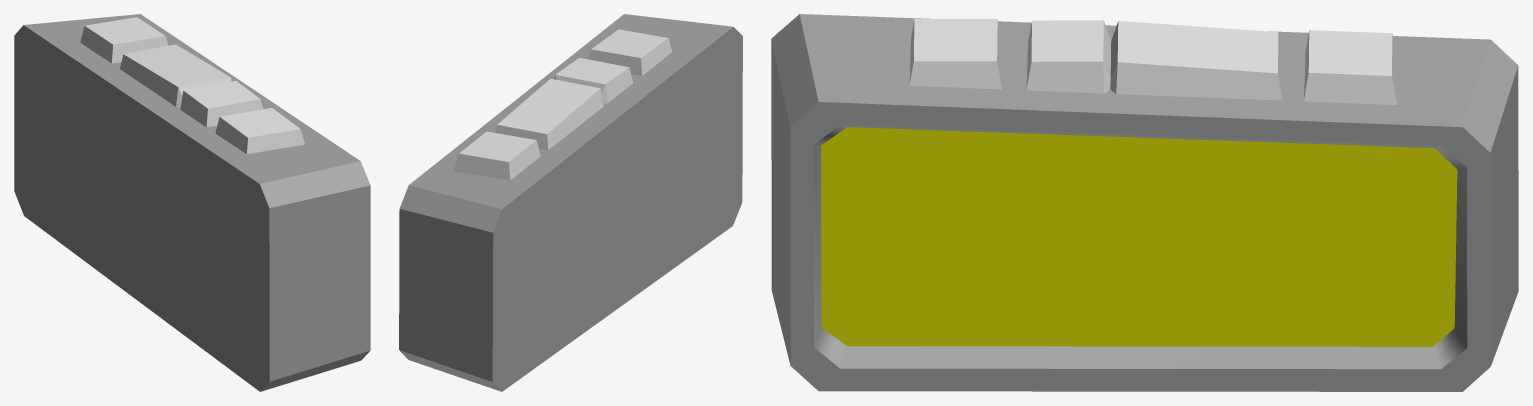
Rendered from BedRoom_DigitalClock.fbx.
3 renders of one model, left to right at view 1: azimuth 30°, elevation 25°; view 2: azimuth 150°, elevation 25°; view 3: azimuth 270°, elevation 25°, orthographic. The views are drawn at different scales.
Parts seen in each view (by area): view 1: BedRoom_DigitalClock; view 2: BedRoom_DigitalClock; view 3: BedRoom_DigitalClock.
Boxes of the visible parts, box(x1,y1,x2,y2) form: BedRoom_DigitalClock: box(14, 14, 370, 391); BedRoom_DigitalClock: box(399, 14, 742, 391); BedRoom_DigitalClock: box(771, 14, 1518, 391).
Bounding box in the file's own units: 10.48 × 19.79 × 42.38.
